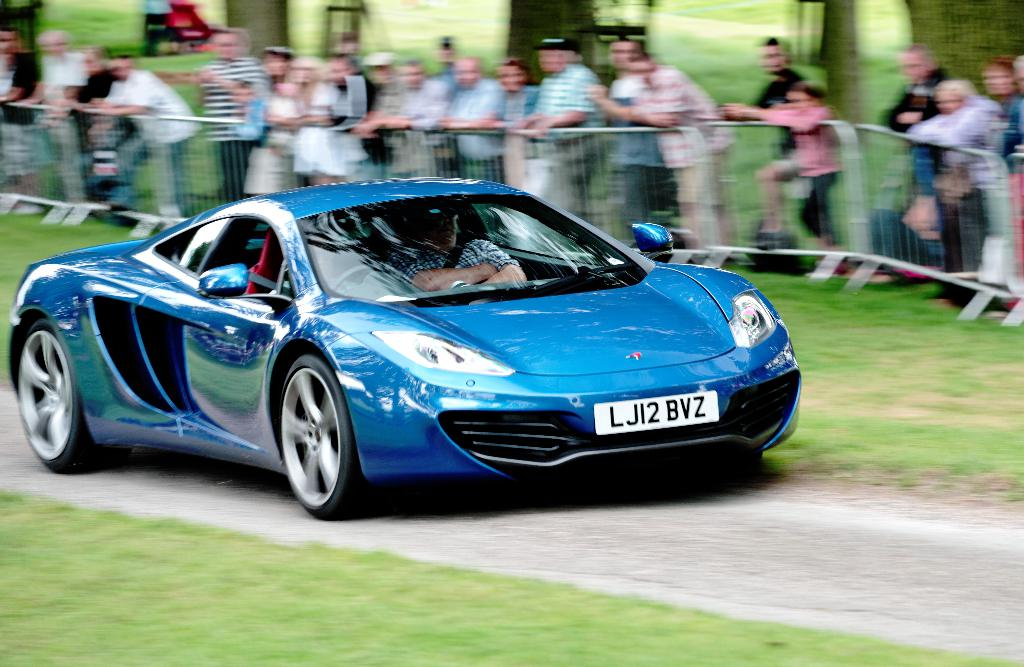Person: (0, 28, 1024, 311), (384, 210, 527, 291)
